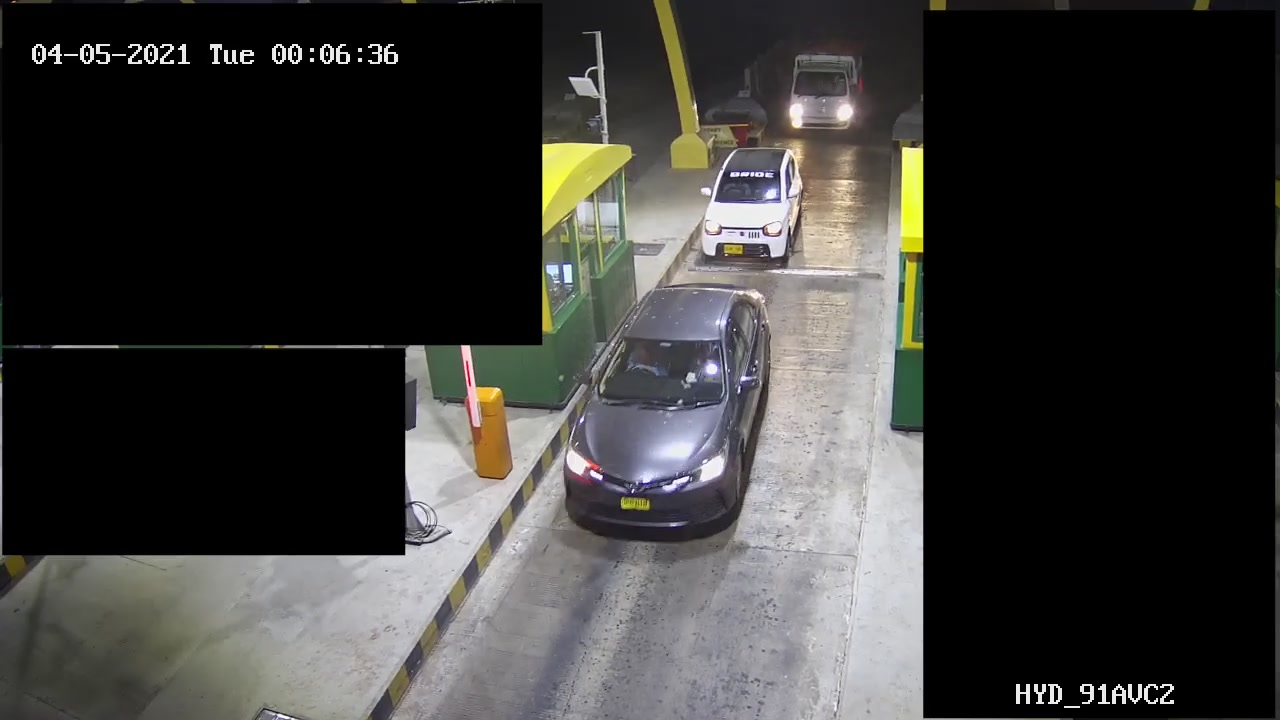F1: (560, 282, 777, 547), (691, 150, 803, 267)
